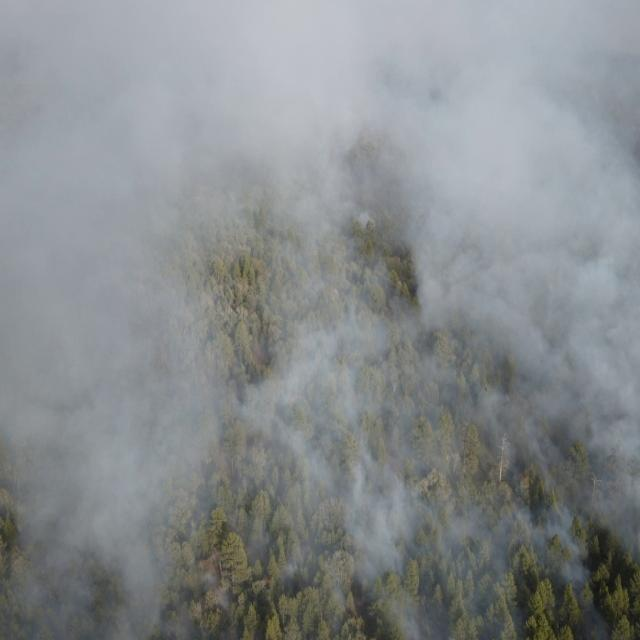fire: (262, 574, 272, 584)
smoke: (0, 0, 640, 640)
